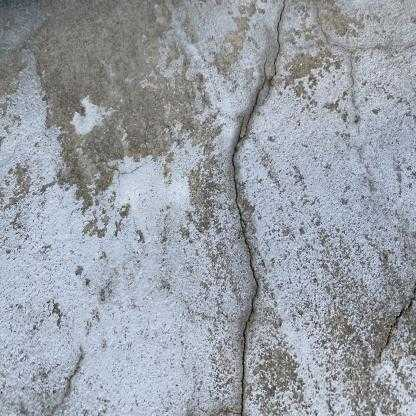crack: (232, 0, 286, 414)
